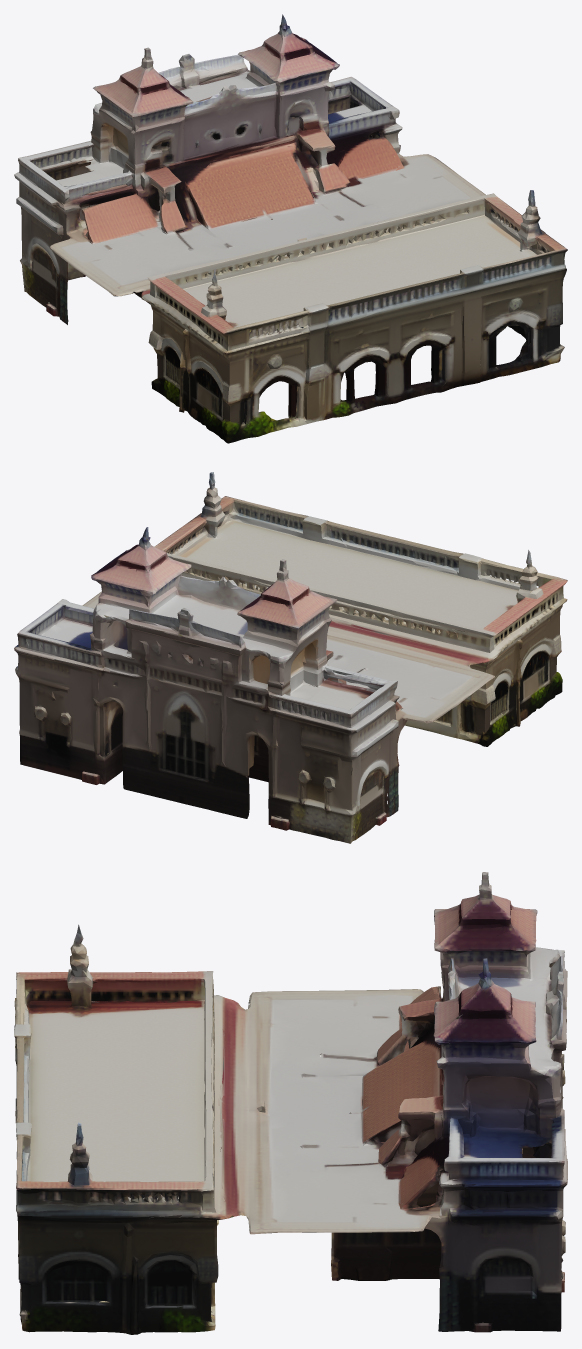
The model's file is agakhanpalace.glb.
3 views of the same model, one above another, from view 1: azimuth 30°, elevation 25°; view 2: azimuth 150°, elevation 25°; view 3: azimuth 270°, elevation 25° (orthographic). The views are drawn at different scales.
Visible parts, largest first — view 1: mesh; view 2: mesh; view 3: mesh.
Boxes of the visible parts, x1=… form: mesh: x1=14, y1=14, x2=567, y2=443; mesh: x1=14, y1=472, x2=567, y2=843; mesh: x1=14, y1=872, x2=567, y2=1334.
Bounding box in the file's own units: 1 × 0.6006 × 0.9657.
Materials: 1 (1 with a texture image).
